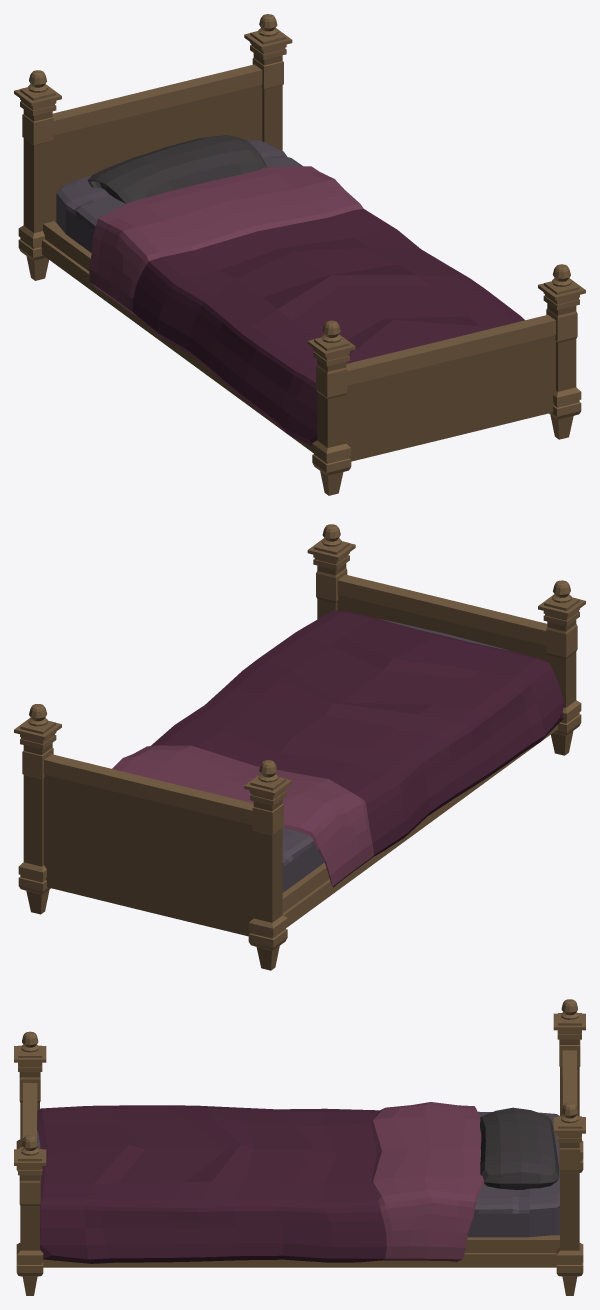
The model's file is quaternius_cc0-twin-bed-686.glb.
The picture shows the model from 3 angles, top to bottom: view 1: azimuth 30°, elevation 25°; view 2: azimuth 150°, elevation 25°; view 3: azimuth 270°, elevation 25°; orthographic projection. The views are drawn at different scales.
Parts seen in each view (by area): view 1: Comforter, BedFrame, Pillow, Mattress; view 2: Comforter, BedFrame, Mattress; view 3: Comforter, BedFrame, Pillow, Mattress.
Boxes of the visible parts, <box> form: Comforter: <box>89,166,524,446</box>; BedFrame: <box>14,14,585,495</box>; Pillow: <box>87,135,267,203</box>; Mattress: <box>56,140,302,252</box>; Comforter: <box>112,610,563,887</box>; BedFrame: <box>14,524,585,970</box>; Mattress: <box>282,618,507,892</box>; Comforter: <box>37,1102,483,1263</box>; BedFrame: <box>14,999,585,1295</box>; Pillow: <box>480,1107,559,1189</box>; Mattress: <box>37,1111,559,1237</box>.
Size of the model in its own units: 2.06 by 1.56 by 4.26.
